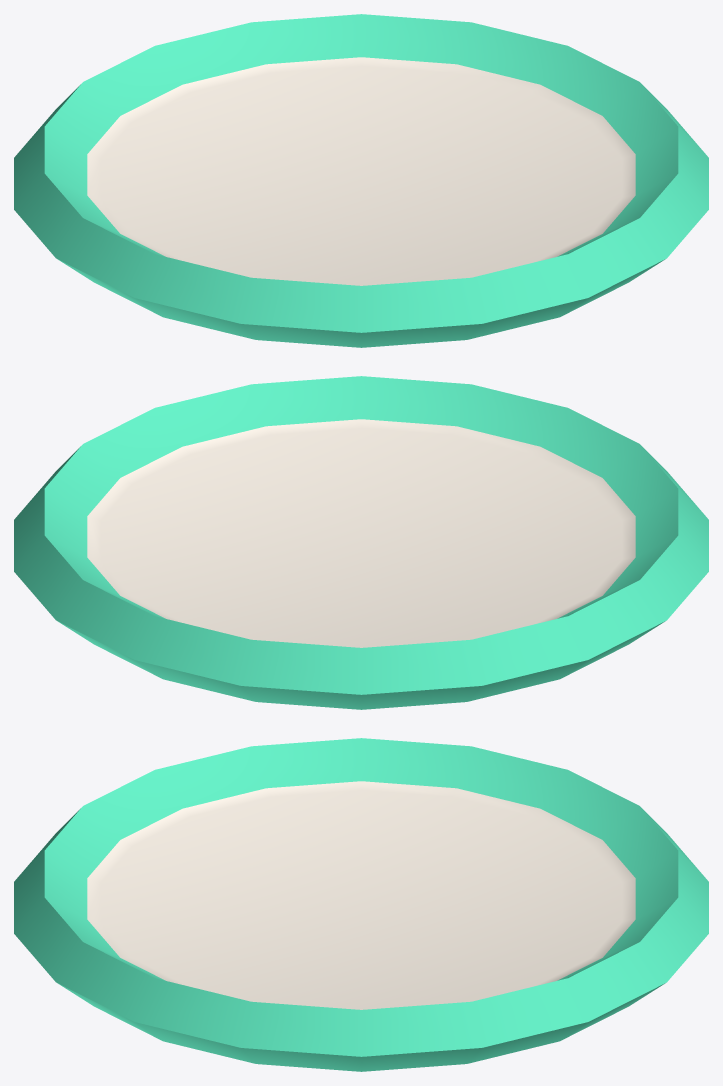
Rendered from course_pad.glb.
3 views of the same model, one above another, from view 1: azimuth 30°, elevation 25°; view 2: azimuth 150°, elevation 25°; view 3: azimuth 270°, elevation 25° (orthographic).
Parts seen in each view (by area): view 1: course_pad; view 2: course_pad; view 3: course_pad.
Part boxes in pixels (bbox=[...]): course_pad: bbox=[14, 14, 708, 347]; course_pad: bbox=[14, 376, 708, 709]; course_pad: bbox=[14, 738, 708, 1071].
Size of the model in its own units: 11.2 by 2.49 by 11.03.
